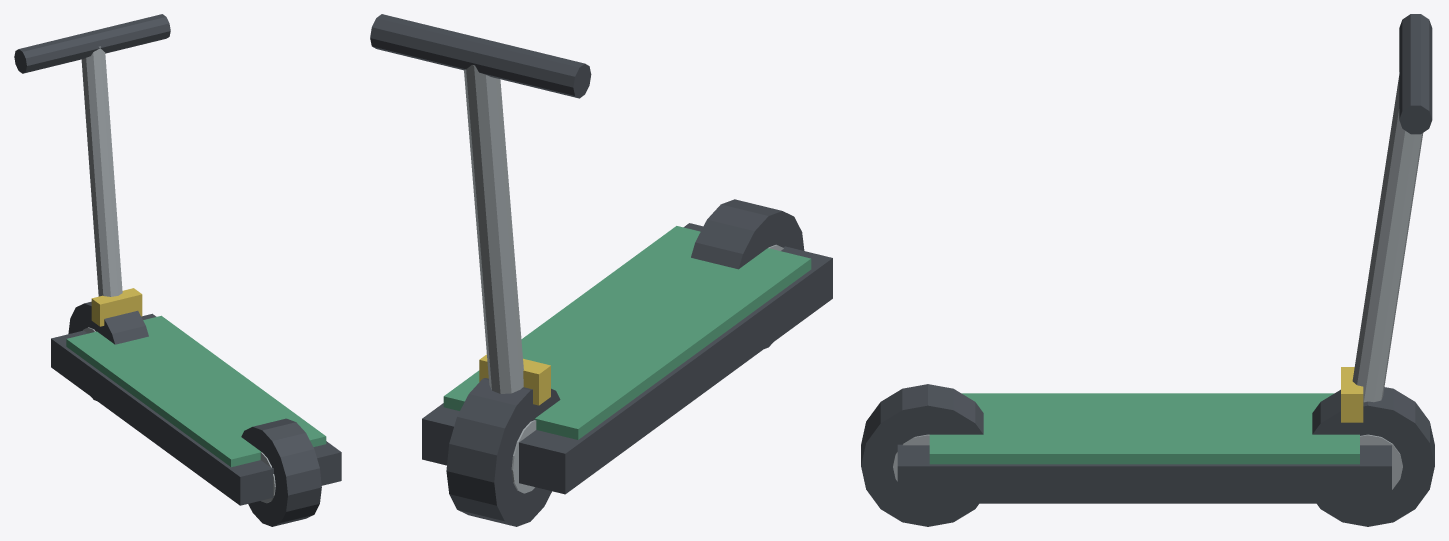
File: electric_scooter.glb
The picture shows the model from 3 angles, left to right: view 1: azimuth 30°, elevation 25°; view 2: azimuth 150°, elevation 25°; view 3: azimuth 270°, elevation 25°; orthographic projection. The views are drawn at different scales.
Parts seen in each view (by area): view 1: part_1, part_0, part_6, part_4, part_7, part_2, part_8; view 2: part_1, part_0, part_6, part_2, part_7, part_4, part_8, part_3; view 3: part_1, part_0, part_6, part_4, part_2, part_7, part_8, part_3.
Boxes of the visible parts, bbox=[...] form: part_1: bbox=[66, 315, 326, 467]; part_0: bbox=[51, 313, 341, 505]; part_6: bbox=[81, 46, 122, 296]; part_4: bbox=[241, 418, 321, 526]; part_7: bbox=[14, 14, 170, 73]; part_2: bbox=[68, 301, 148, 400]; part_8: bbox=[91, 288, 142, 326]; part_1: bbox=[443, 226, 811, 439]; part_0: bbox=[422, 223, 832, 494]; part_6: bbox=[464, 65, 523, 393]; part_2: bbox=[446, 378, 560, 526]; part_7: bbox=[370, 14, 591, 98]; part_4: bbox=[691, 199, 804, 348]; part_8: bbox=[479, 354, 550, 405]; part_3: bbox=[511, 420, 536, 493]; part_1: bbox=[929, 393, 1359, 464]; part_0: bbox=[897, 444, 1391, 503]; part_6: bbox=[1352, 72, 1423, 402]; part_4: bbox=[861, 384, 983, 526]; part_2: bbox=[1312, 387, 1434, 526]; part_7: bbox=[1399, 14, 1432, 134]; part_8: bbox=[1341, 367, 1363, 422]; part_3: bbox=[1360, 434, 1402, 489].
Size of the model in its own units: 0.68 by 1.58 by 1.8.
